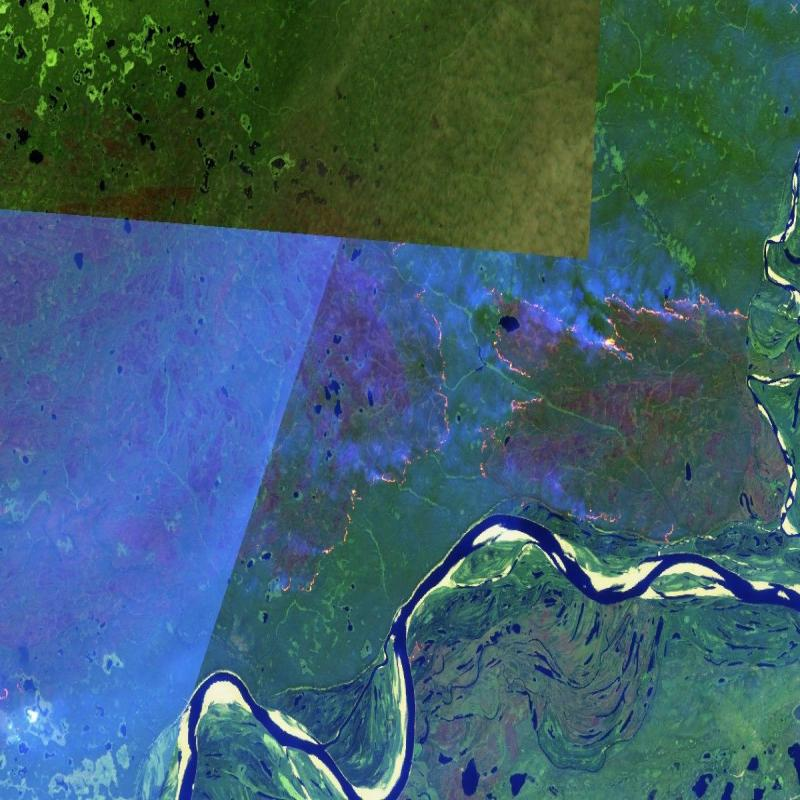fire: (470, 277, 752, 529), (272, 277, 454, 601), (0, 669, 29, 720)
